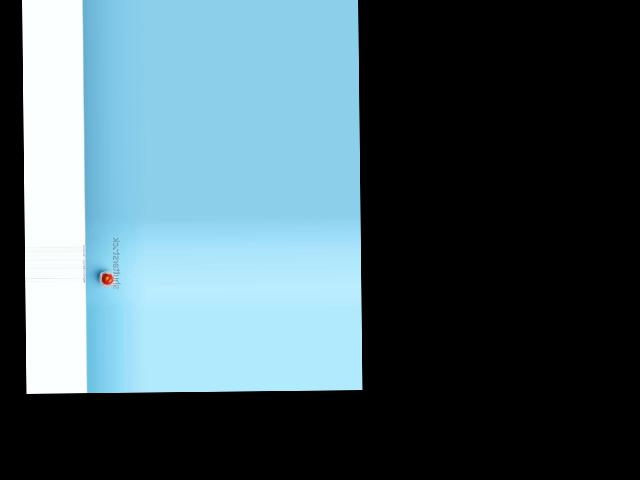tomato: (101, 273, 112, 284)
